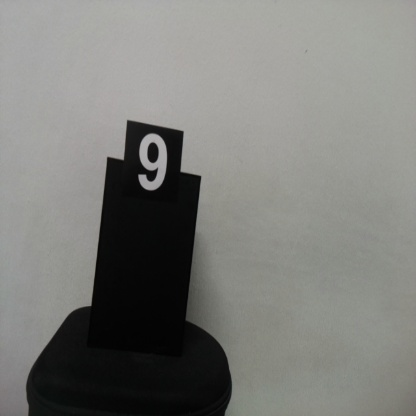id_9: (126, 120, 182, 225)
